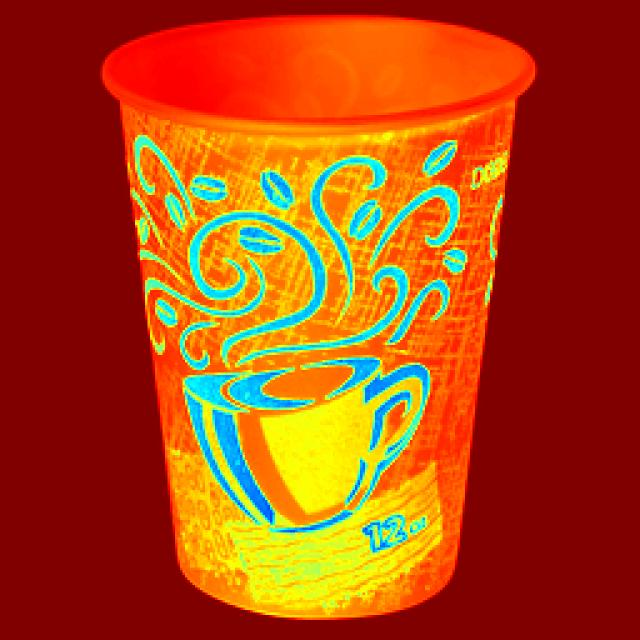Paper Cups: (106, 0, 528, 623)
